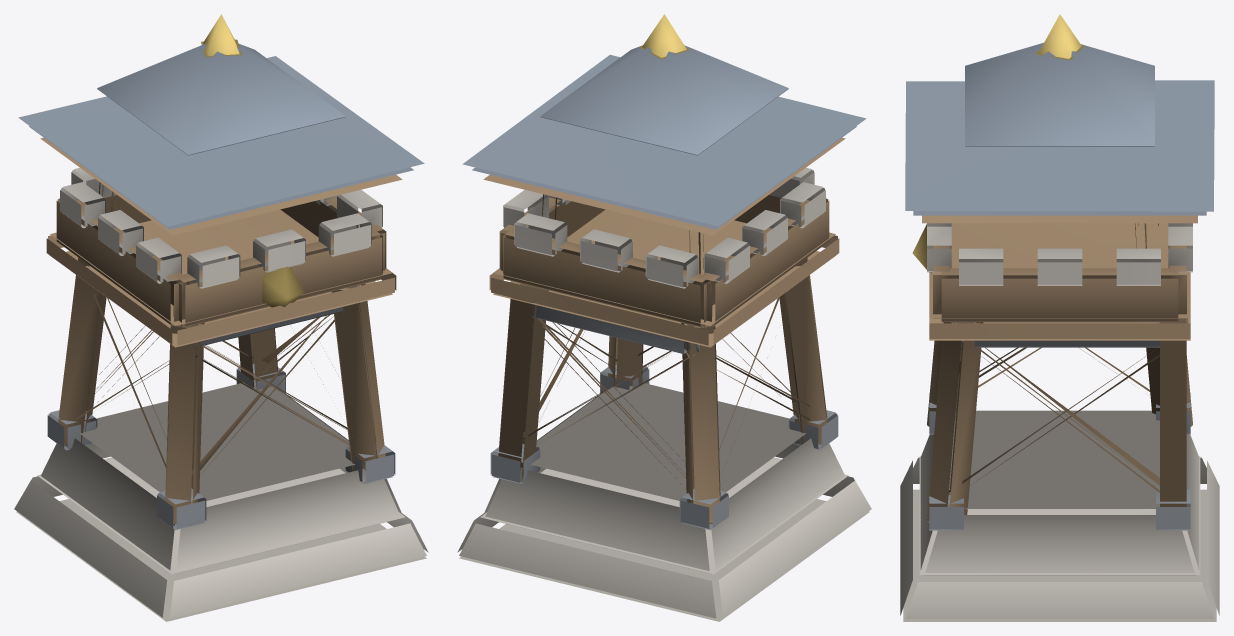
The model's file is watch_tower_lod2.glb.
The picture shows the model from 3 angles, left to right: view 1: azimuth 30°, elevation 25°; view 2: azimuth 150°, elevation 25°; view 3: azimuth 270°, elevation 25°; orthographic projection. The views are drawn at different scales.
Visible parts, largest first — view 1: watch_tower.001; view 2: watch_tower.001; view 3: watch_tower.001.
Part boxes in pixels (box(x1,y1,x2,y2)): watch_tower.001: box(14, 14, 428, 621); watch_tower.001: box(457, 14, 871, 621); watch_tower.001: box(900, 14, 1219, 621).
Size of the model in its own units: 2.59 by 4.85 by 2.59.
